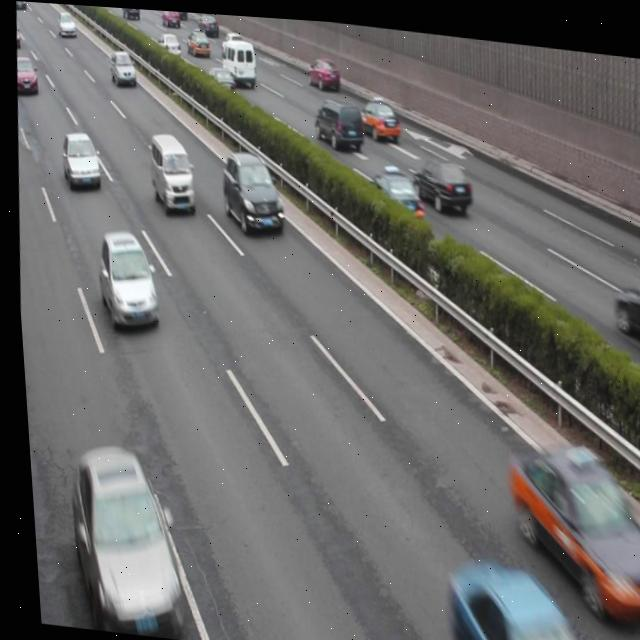car: (497, 428, 640, 614), (59, 443, 180, 632), (436, 554, 592, 640), (91, 230, 158, 331), (217, 145, 284, 234), (363, 155, 424, 218), (409, 151, 470, 209), (58, 130, 100, 191), (354, 87, 400, 137), (305, 53, 340, 89), (109, 48, 138, 85), (203, 61, 236, 93), (15, 56, 40, 94), (185, 24, 210, 56), (155, 31, 181, 57), (220, 28, 244, 54), (57, 11, 77, 36), (197, 10, 218, 32), (162, 8, 182, 28)
truck: (143, 129, 197, 215), (311, 96, 364, 146), (219, 33, 257, 84)
